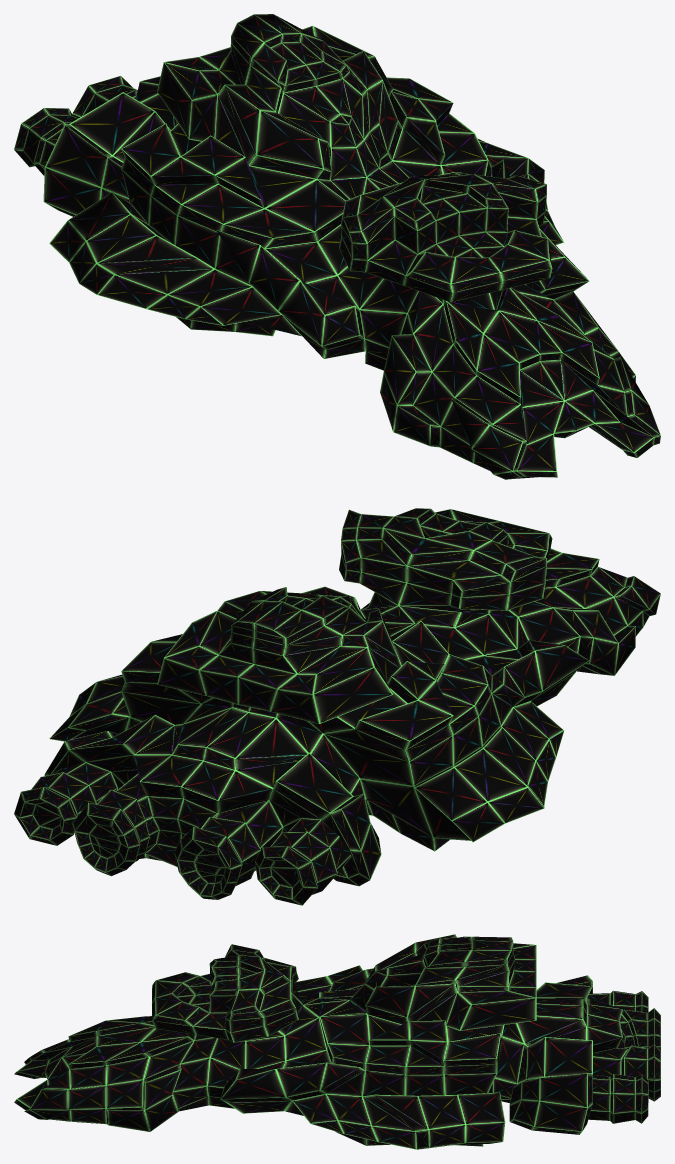
Rendered from the_fearless_physics.DAE.
3 views of the same model, one above another, from view 1: azimuth 30°, elevation 25°; view 2: azimuth 150°, elevation 25°; view 3: azimuth 270°, elevation 25° (orthographic). The views are drawn at different scales.
Parts seen in each view (by area): view 1: Box01; view 2: Box01; view 3: Box01.
Boxes of the visible parts, x1=… form: Box01: x1=14, y1=14, x2=660, y2=479; Box01: x1=14, y1=508, x2=660, y2=905; Box01: x1=14, y1=934, x2=660, y2=1149.
Bounding box in the file's own units: 316 × 139 × 524.
